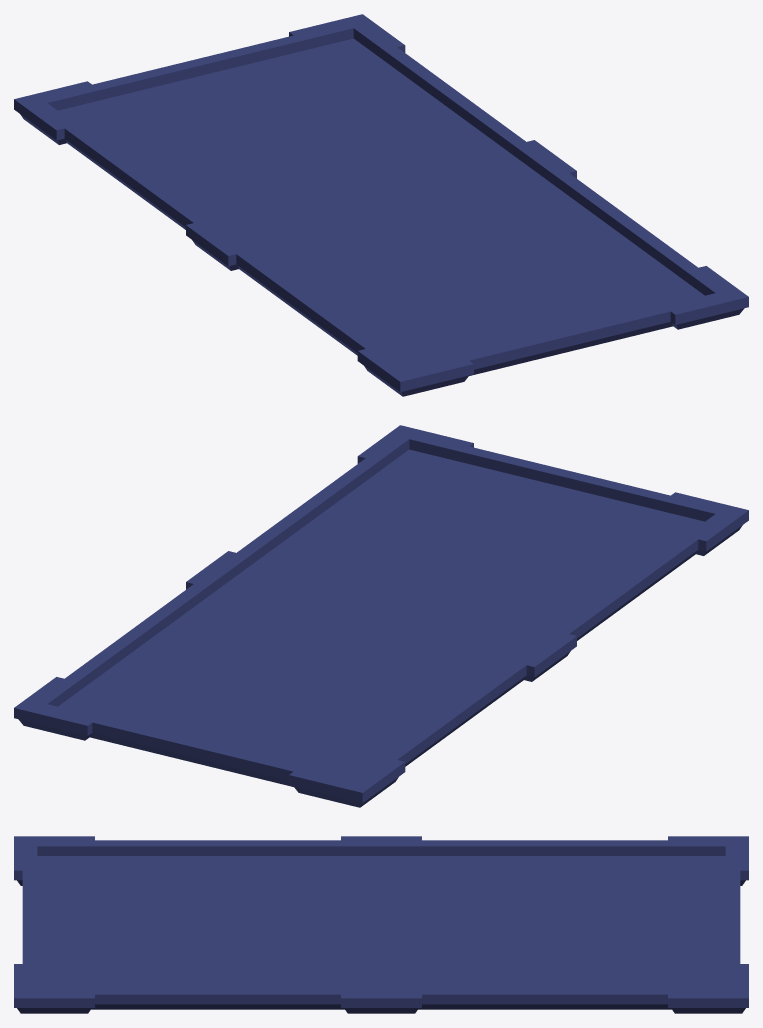
The model's file is bigrect_top_1.glb.
The picture shows the model from 3 angles, top to bottom: view 1: azimuth 30°, elevation 25°; view 2: azimuth 150°, elevation 25°; view 3: azimuth 270°, elevation 25°; orthographic projection. The views are drawn at different scales.
Parts seen in each view (by area): view 1: bigrect_top_1; view 2: bigrect_top_1; view 3: bigrect_top_1.
Boxes of the visible parts, x1=… form: bigrect_top_1: x1=14, y1=14, x2=748, y2=396; bigrect_top_1: x1=14, y1=425, x2=748, y2=807; bigrect_top_1: x1=14, y1=836, x2=748, y2=1013.
Size of the model in its own units: 5.44 by 0.2826 by 10.44.
